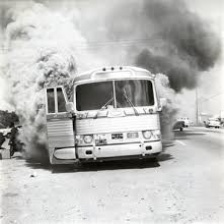smoke: (139, 7, 222, 88), (3, 10, 65, 105)
